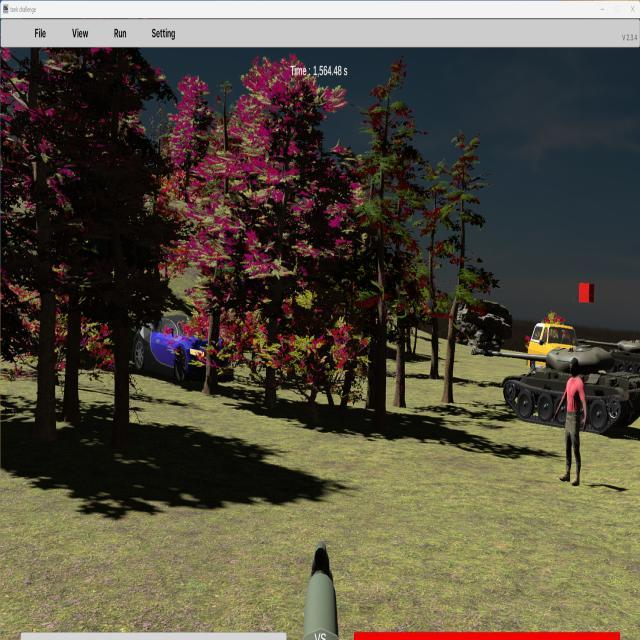Human: (555, 356, 587, 486)
Tank: (472, 345, 640, 436), (575, 336, 640, 382)
car: (131, 310, 222, 388), (525, 322, 579, 378)
